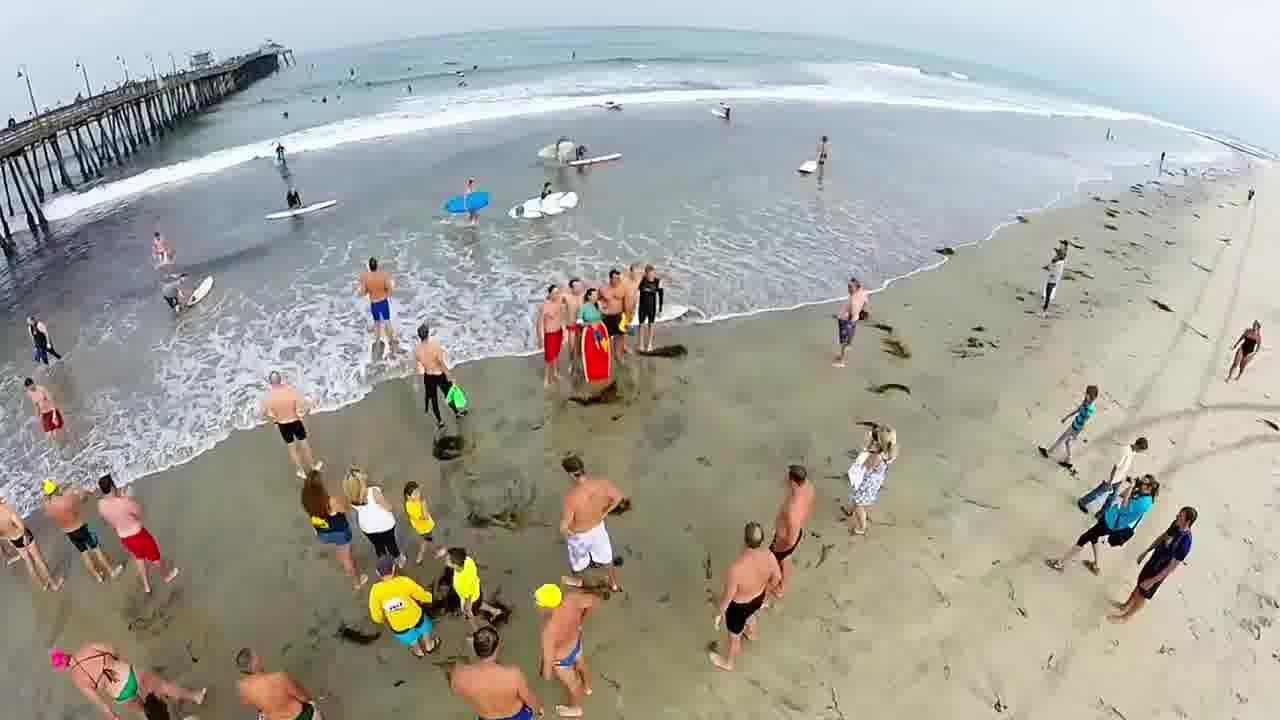human: (17, 294, 65, 359), (810, 126, 843, 179), (134, 218, 173, 257)
